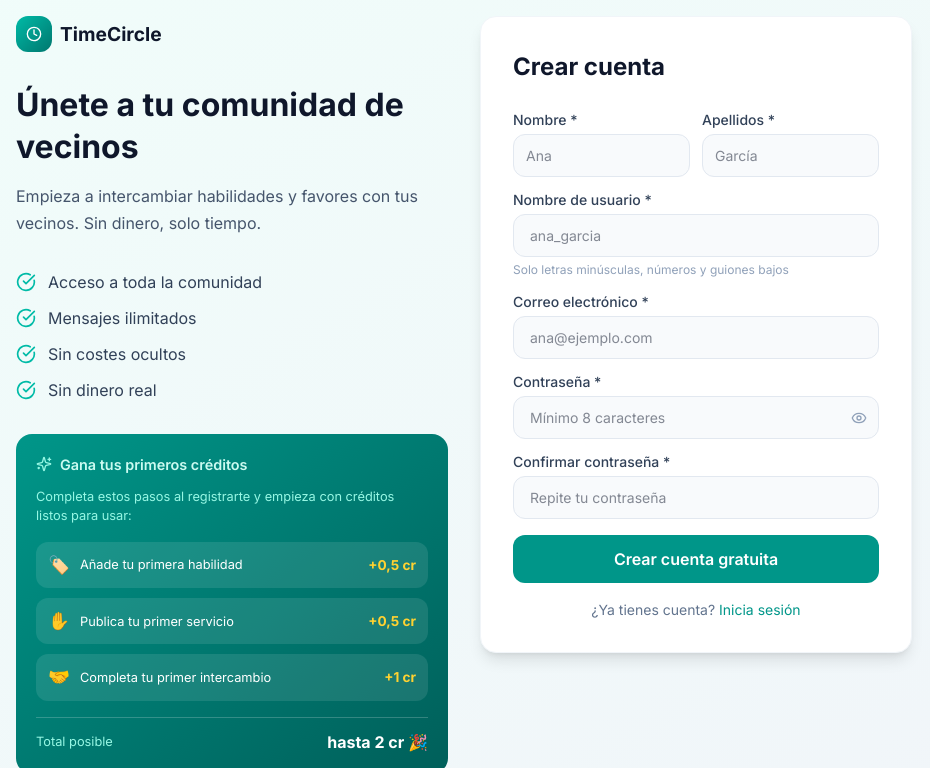
Test: Register page › requires username
This screenshot has width=930, height=768.
Type "validpassword" into the password field labelled "Contraseña *" at (696, 418), box x1=513 y1=396 x2=879 y2=439
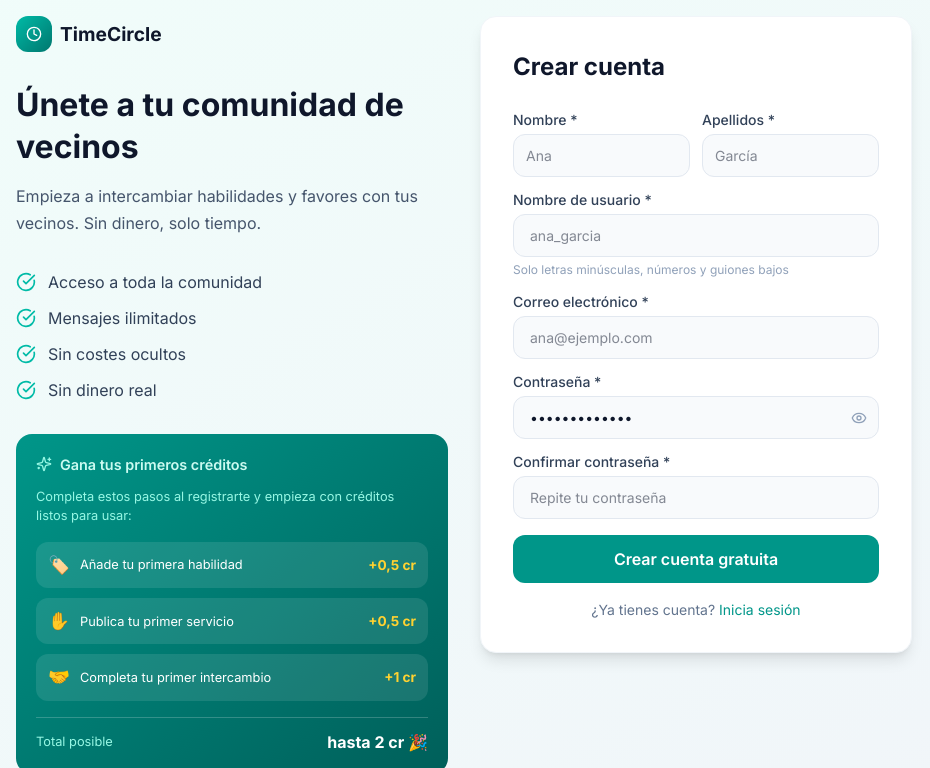
Type "validpassword" into the password field labelled "Confirmar contraseña *" at (696, 498), box x1=513 y1=476 x2=879 y2=519
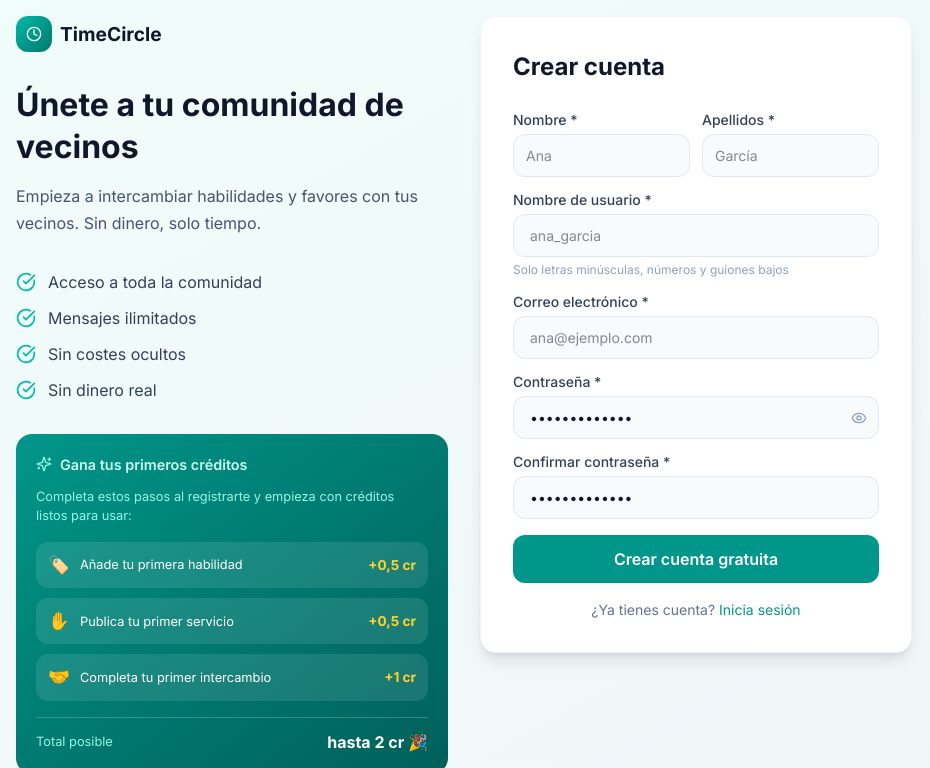
Click the button "Crear cuenta gratuita" at (696, 559), box x1=513 y1=535 x2=879 y2=583
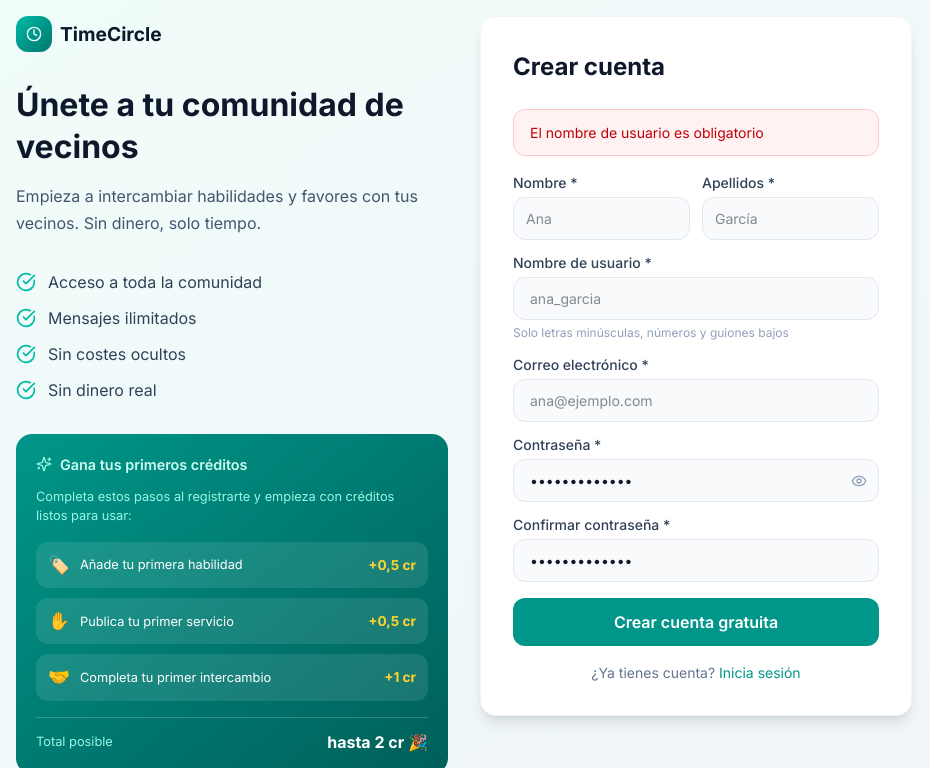
Check: the text "El nombre de usuario es obligatorio" is shown, box x1=513 y1=109 x2=879 y2=156
